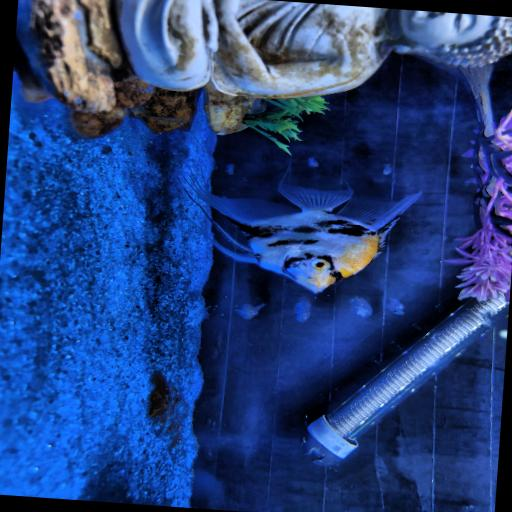Fish: (193, 181, 419, 291), (235, 303, 264, 318), (351, 297, 371, 316), (294, 300, 309, 321)
